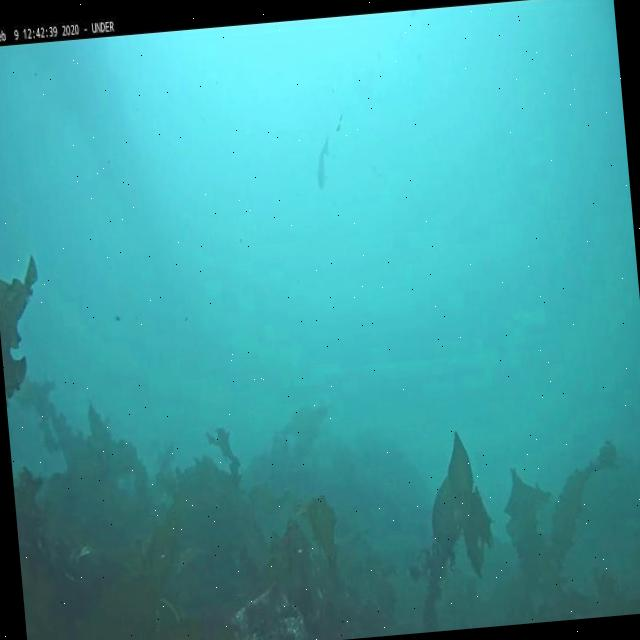fish: (315, 136, 332, 190)
